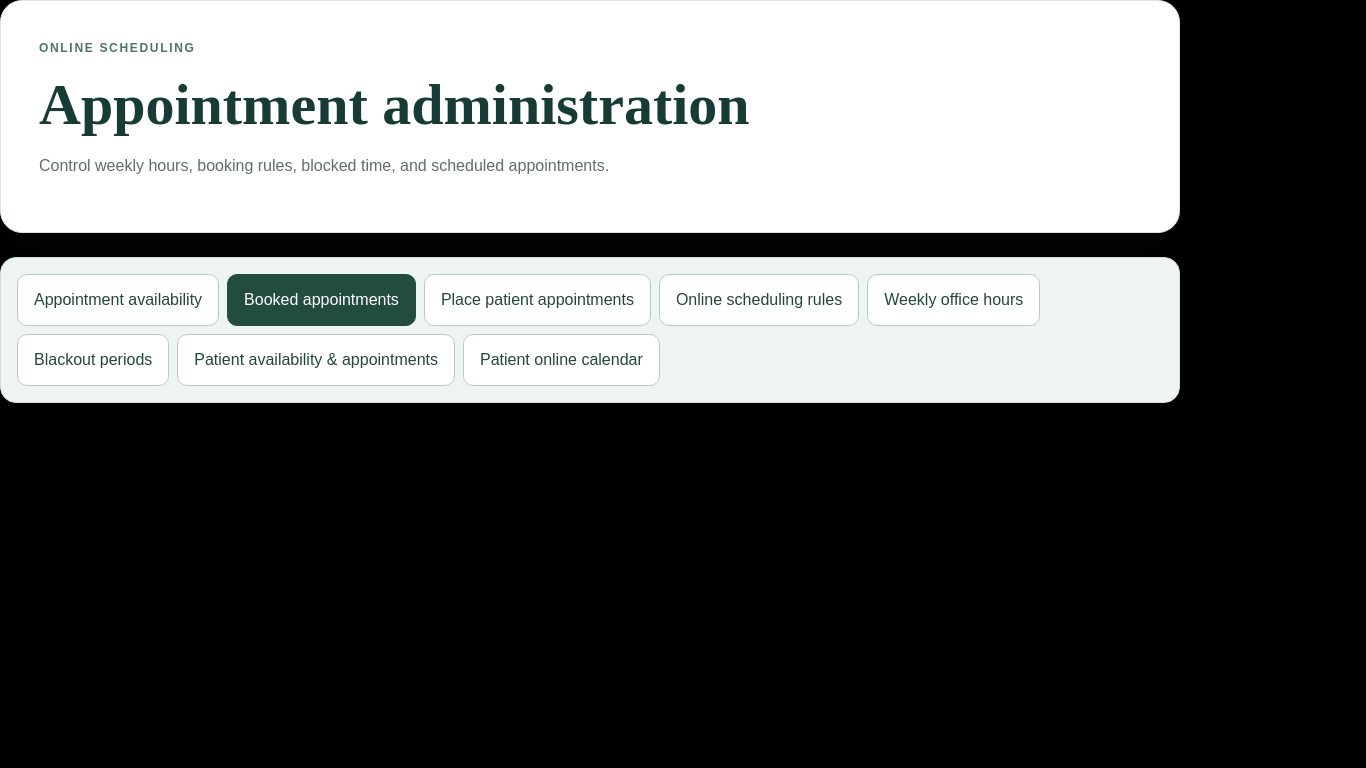
Test: save failures appear beside hours form and release its button
Click the button "Weekly office hours" at (954, 300), box [867,274,1040,326]
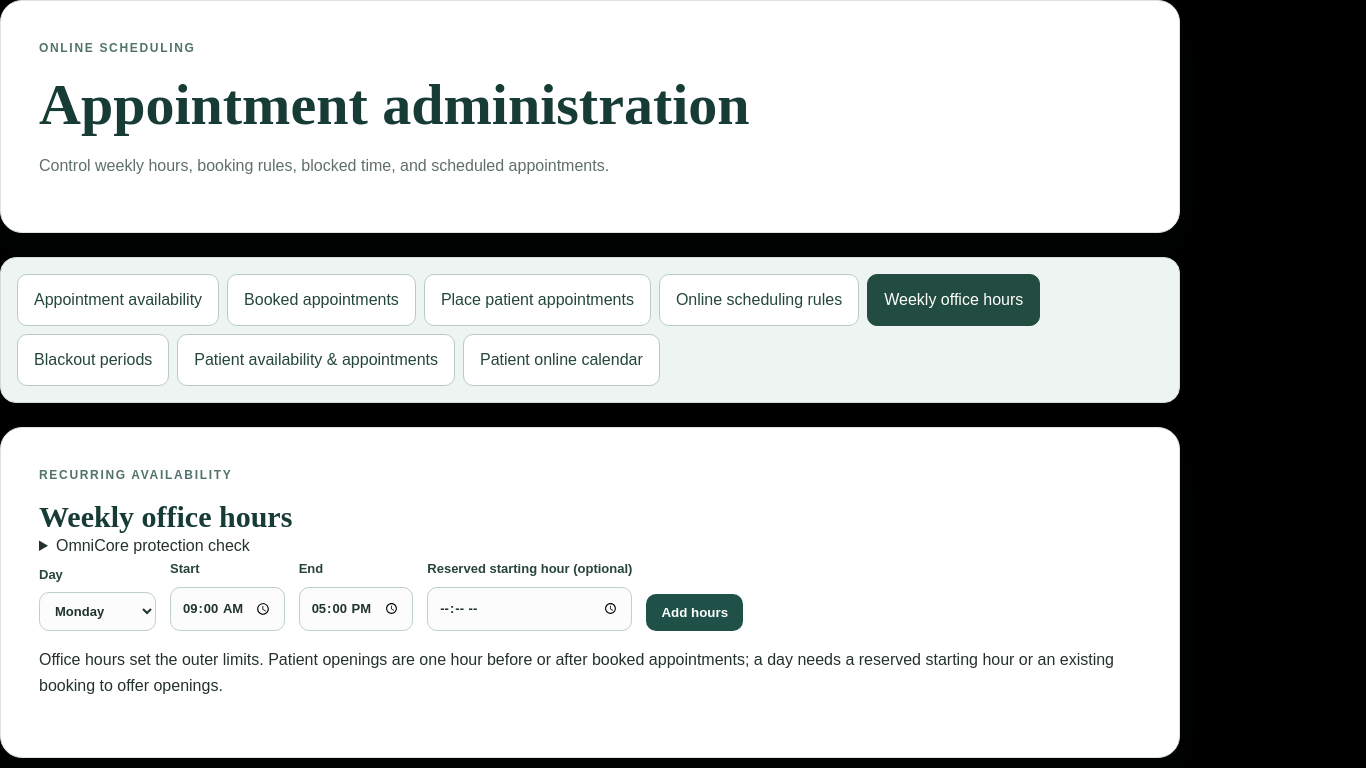
Expected: the button "Add hours" is enabled
Click the button "Add hours" at (695, 613), box [646,594,743,631]
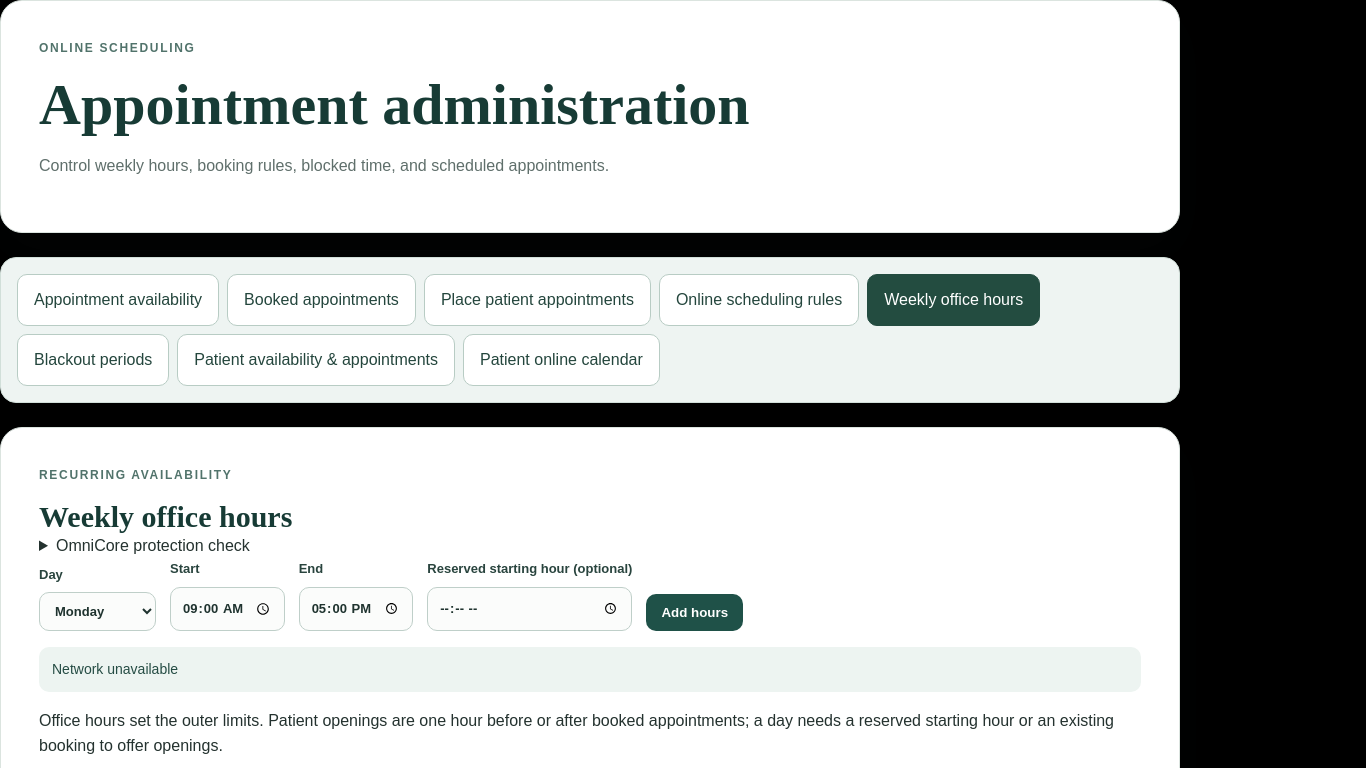
Expected: the button "Add hours" is enabled, [646,594,743,631]
Expected: the text "Network unavailable" is shown, [39,647,1141,692]
